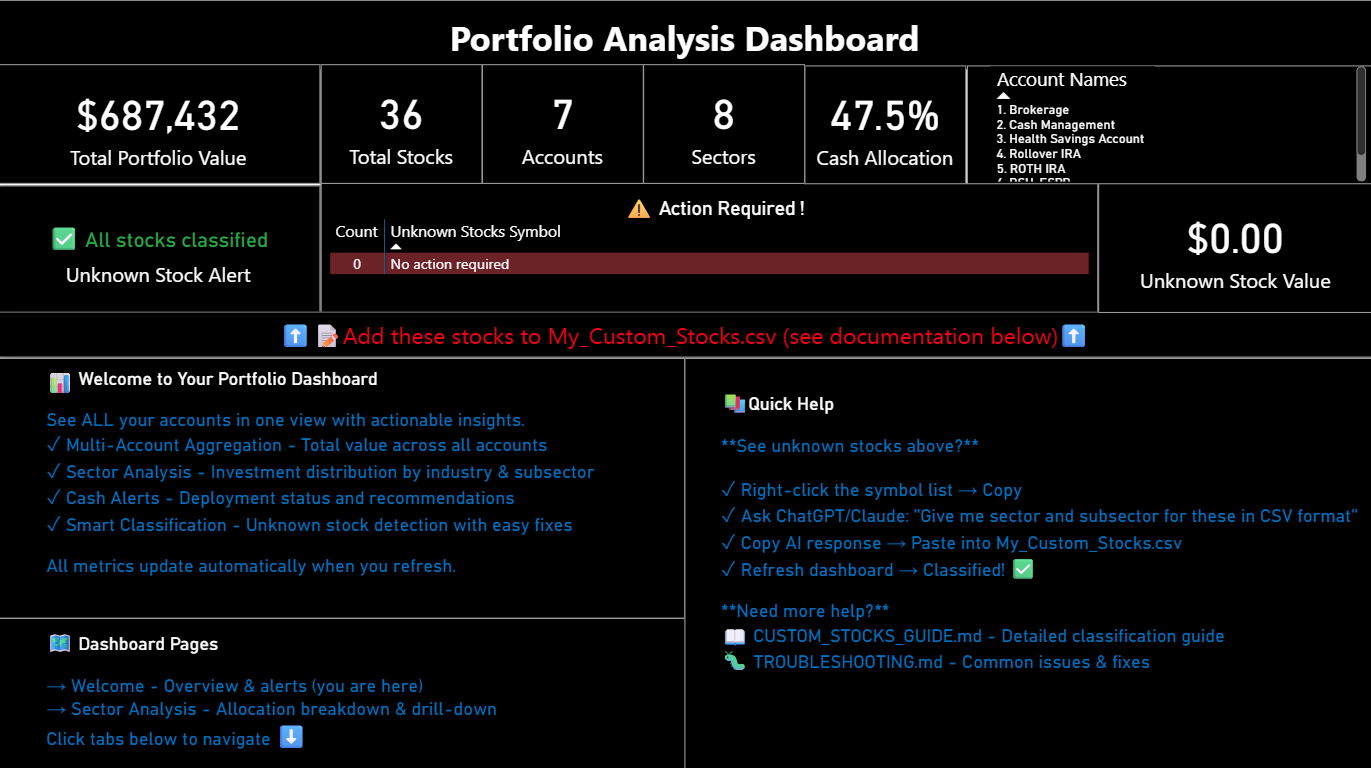

The page's visual inventory and layout, read from the dashboard file:
{"tool":"powerbi","page":{"name":"Welcome","canvas":[1280,720],"ordinal":0},"visuals":[{"type":"textbox","box":[0,0,1280.5,68.5],"z":0},{"type":"card","fields":{"Values":["All_Measures_Tbl.Total_Portfolio_Value"]},"box":[0,62.2,300.7,111],"z":1000},{"type":"card","fields":{"Values":["All_Measures_Tbl.Unknown_Stocks_Alert"]},"box":[0,173.9,300.7,118.1],"z":2000},{"type":"tableEx","title":"⚠️ Action Required !","fields":{"Values":["All_Measures_Tbl.Unknown_Stocks_Count","All_Measures_Tbl.Unknown_Stocks_List"]},"box":[300.7,171.6,723.3,120.4],"z":3000},{"type":"textbox","box":[0,292,1279.8,42.5],"z":4000},{"type":"card","fields":{"Values":["All_Measures_Tbl.Number_Of_Stocks"]},"box":[300.7,62.2,150.3,111],"z":5000},{"type":"card","fields":{"Values":["All_Measures_Tbl.Number_Of_Accounts"]},"box":[451,61.8,150.3,111.5],"z":6000},{"type":"card","fields":{"Values":["All_Measures_Tbl.Number_Of_Sectors"]},"box":[601.3,61.8,150.3,111.5],"z":7000},{"type":"card","fields":{"Values":["All_Measures_Tbl.Cash_Percent"]},"box":[751.6,63,150.3,110.2],"z":8000},{"type":"card","fields":{"Values":["All_Measures_Tbl.Unknown_Stocks_Value"]},"box":[1024,171.6,255.8,120.4],"z":9000},{"type":"tableEx","title":"Account Names","fields":{"Values":["All_Measures_Tbl.Account_Names_Numbered"]},"box":[902,63,377.8,110.2],"z":10000},{"type":"textbox","box":[0,334.5,639.9,242.4],"z":11000},{"type":"textbox","box":[0,576.9,640.7,143.2],"z":12000},{"type":"textbox","box":[639.9,334.5,640.7,385.7],"z":13000}]}

Visuals, with their boxes in screenshot pixels (x1, y1, x2, y2), scaled from the page's 1280x720 canvas onto the 1371x768 screenshot:
textbox: x1=0 y1=0 x2=1370 y2=73
card - All_Measures_Tbl.Total_Portfolio_Value: x1=0 y1=66 x2=322 y2=185
card - All_Measures_Tbl.Unknown_Stocks_Alert: x1=0 y1=185 x2=322 y2=311
"⚠️ Action Required !" tableEx: x1=322 y1=183 x2=1097 y2=311
textbox: x1=0 y1=311 x2=1370 y2=357
card - All_Measures_Tbl.Number_Of_Stocks: x1=322 y1=66 x2=483 y2=185
card - All_Measures_Tbl.Number_Of_Accounts: x1=483 y1=66 x2=644 y2=185
card - All_Measures_Tbl.Number_Of_Sectors: x1=644 y1=66 x2=805 y2=185
card - All_Measures_Tbl.Cash_Percent: x1=805 y1=67 x2=966 y2=185
card - All_Measures_Tbl.Unknown_Stocks_Value: x1=1097 y1=183 x2=1370 y2=311
"Account Names" tableEx: x1=966 y1=67 x2=1370 y2=185
textbox: x1=0 y1=357 x2=685 y2=615
textbox: x1=0 y1=615 x2=686 y2=767
textbox: x1=685 y1=357 x2=1370 y2=767
